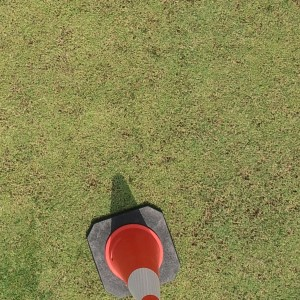traffic cone: (86, 205, 180, 300)
